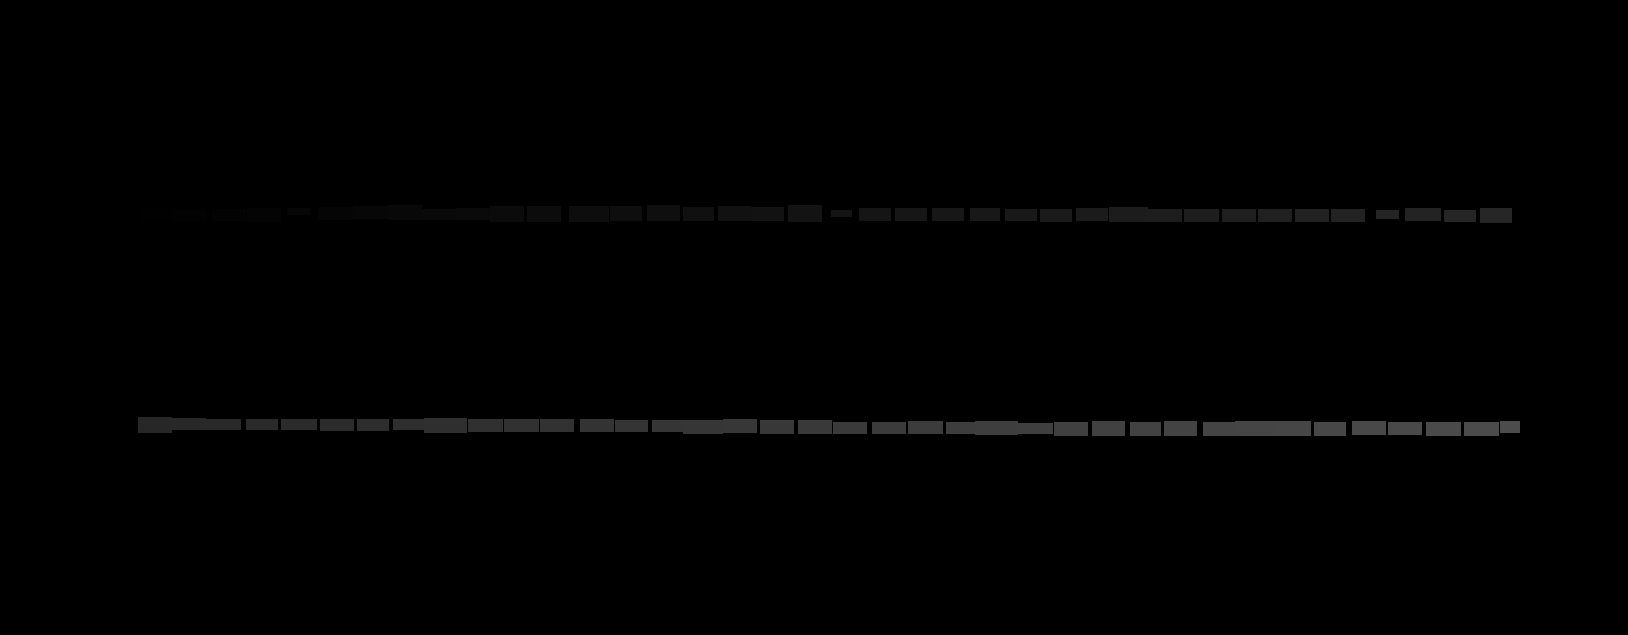light: (424, 418, 467, 433), (569, 206, 609, 222), (1234, 421, 1275, 436), (975, 421, 1017, 435), (1109, 208, 1148, 222), (788, 205, 822, 222), (490, 206, 524, 222), (138, 417, 172, 433), (683, 420, 723, 434), (1275, 421, 1311, 436), (527, 206, 561, 222), (647, 205, 680, 221), (1480, 208, 1512, 223), (247, 208, 281, 222), (1405, 208, 1441, 221), (388, 205, 422, 220), (1092, 421, 1125, 436), (1164, 421, 1197, 436), (1146, 209, 1182, 222), (1184, 209, 1219, 222), (1426, 422, 1461, 436), (1464, 422, 1499, 436), (718, 206, 751, 221), (1222, 209, 1256, 222), (1295, 209, 1329, 222), (1331, 209, 1365, 222), (723, 419, 757, 433), (760, 420, 794, 434), (1054, 422, 1088, 436), (1352, 421, 1386, 435), (610, 206, 642, 221), (751, 208, 784, 221), (1258, 209, 1292, 222), (798, 420, 832, 434), (318, 208, 353, 220), (353, 206, 388, 219), (504, 419, 539, 432), (859, 208, 891, 221), (895, 208, 927, 221), (1076, 208, 1108, 221), (1203, 422, 1236, 436), (140, 209, 174, 221), (212, 209, 246, 221), (456, 208, 490, 220), (468, 419, 503, 432), (540, 419, 574, 432), (908, 421, 943, 434), (1388, 422, 1422, 435), (683, 208, 714, 221), (932, 208, 964, 221), (1040, 209, 1071, 222), (1130, 422, 1161, 436), (1314, 422, 1346, 436), (173, 209, 207, 221), (580, 419, 614, 432), (970, 208, 1000, 221), (170, 418, 206, 430), (1005, 209, 1037, 221), (1444, 210, 1476, 222), (422, 209, 456, 220), (320, 419, 354, 431), (833, 422, 867, 434), (872, 422, 906, 434), (615, 420, 648, 432), (946, 422, 979, 434), (357, 419, 389, 431), (652, 420, 684, 432), (206, 419, 241, 430), (281, 419, 317, 430), (1017, 423, 1053, 434), (246, 419, 278, 430), (394, 419, 425, 430), (1500, 421, 1520, 433), (1376, 210, 1399, 219), (287, 208, 310, 215), (831, 210, 852, 217)
